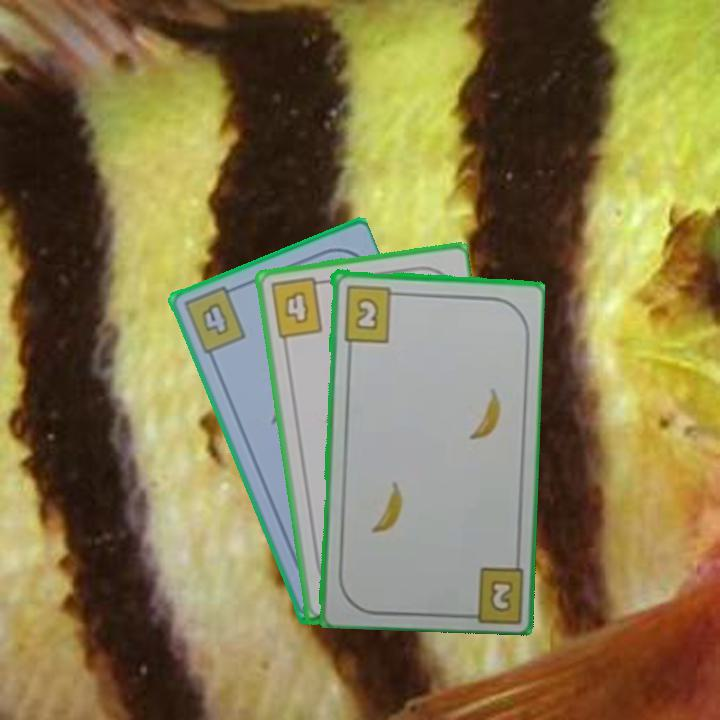2b: (339, 281, 403, 344), (486, 576, 516, 615)
4b: (179, 282, 249, 357), (266, 274, 329, 341)
